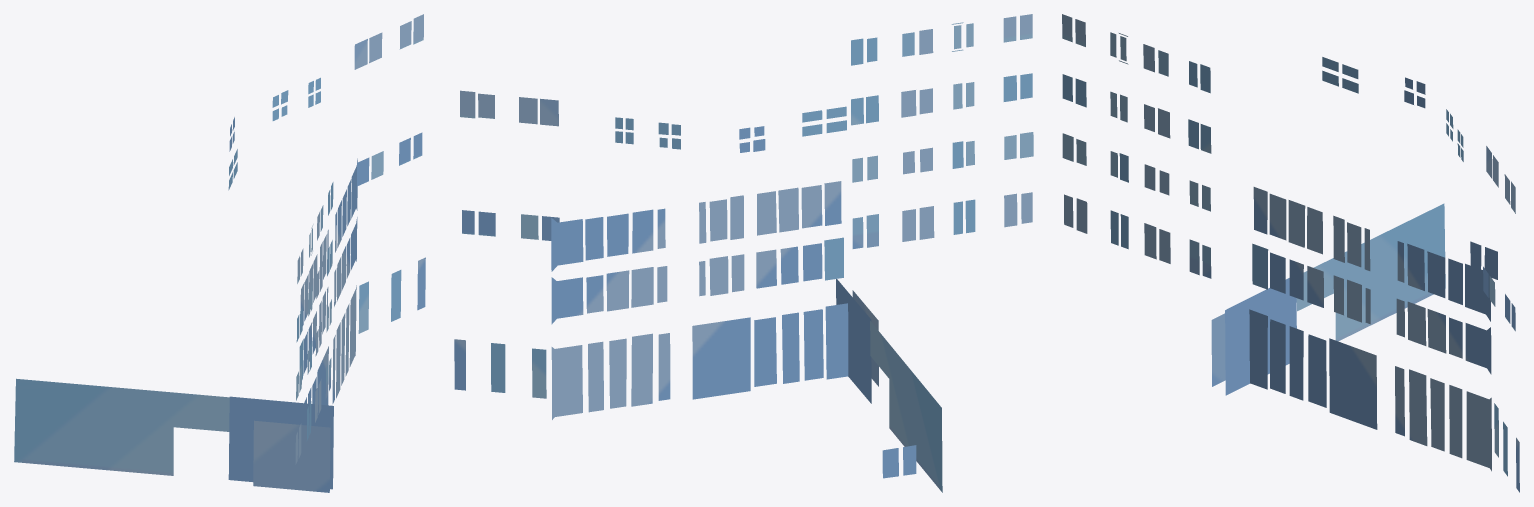
Rendered from ICTCGLass.obj.
The picture shows the model from 3 angles, left to right: view 1: azimuth 30°, elevation 25°; view 2: azimuth 150°, elevation 25°; view 3: azimuth 270°, elevation 25°; orthographic projection. The views are drawn at different scales.
Parts seen in each view (by area): view 1: Cube.001; view 2: Cube.001; view 3: Cube.001.
Boxes of the visible parts, x1=… form: Cube.001: x1=14, y1=14, x2=425, y2=492; Cube.001: x1=454, y1=14, x2=1033, y2=492; Cube.001: x1=1062, y1=14, x2=1519, y2=492.
Size of the model in its own units: 16.58 by 11.22 by 14.27.
1 material, 1 textured.
